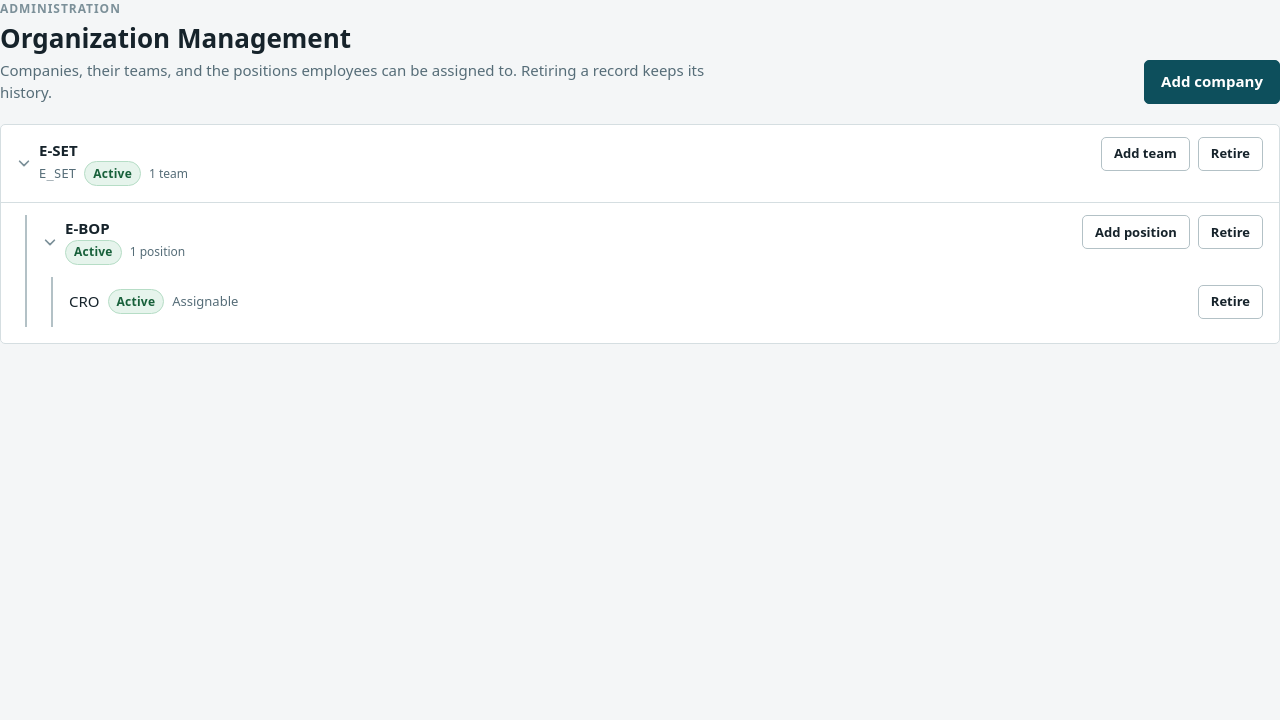
Test: creating a company › refetches the hierarchy after success and reports the SERVER-generated code
Click the button "Add company": (1212, 82) [1144,60,1279,104]
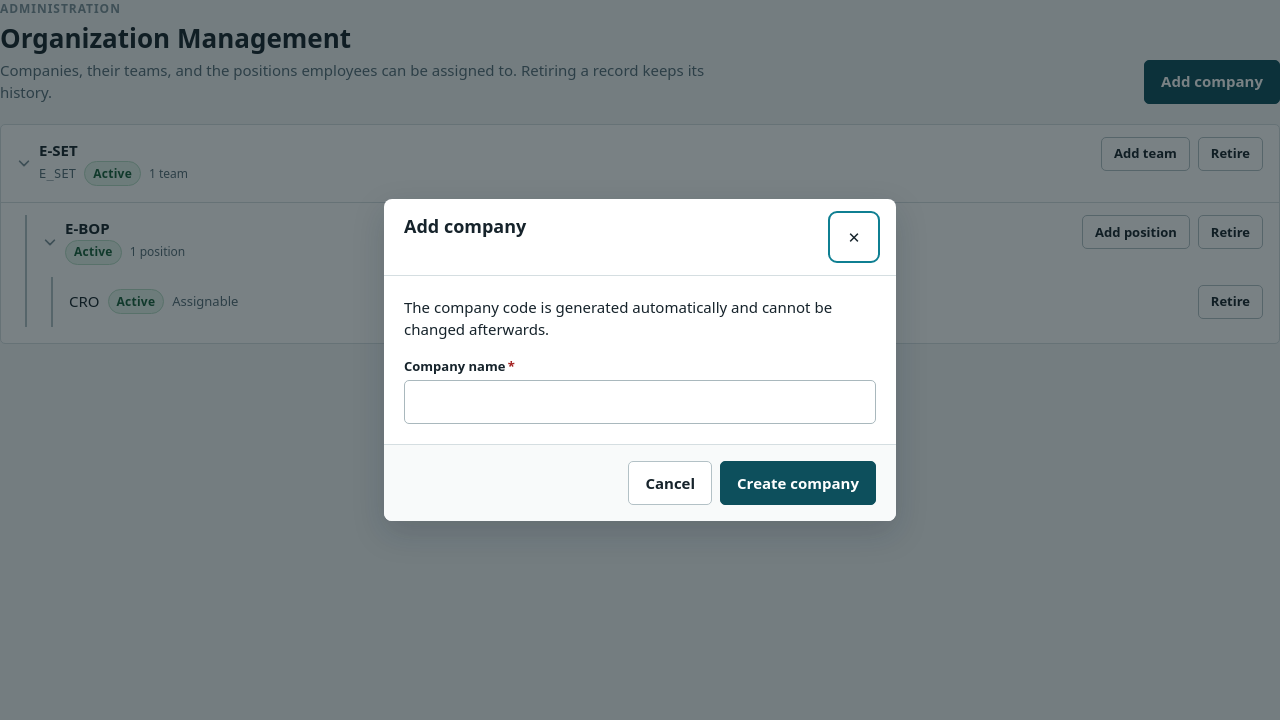
In the field labelled "Company name*": (640, 402) [404,380,876,424], type "North Wind"
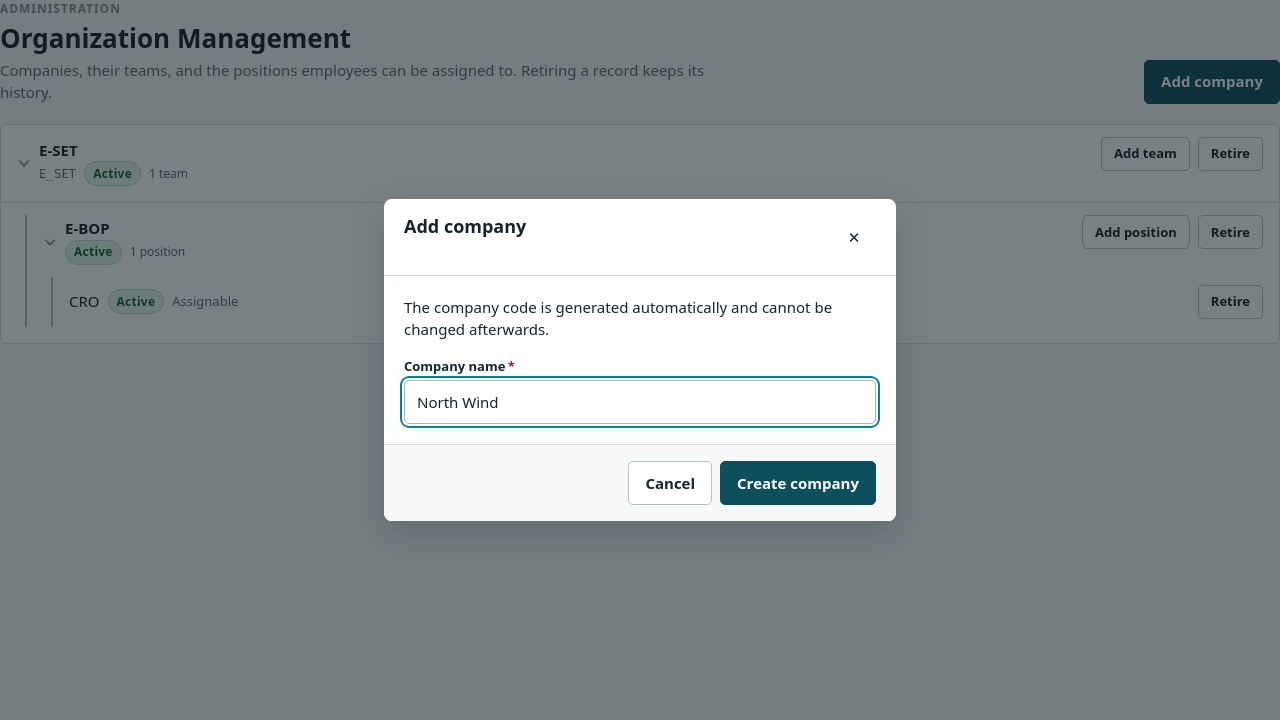
Click the button "Create company": (798, 483) [720,461,876,505]
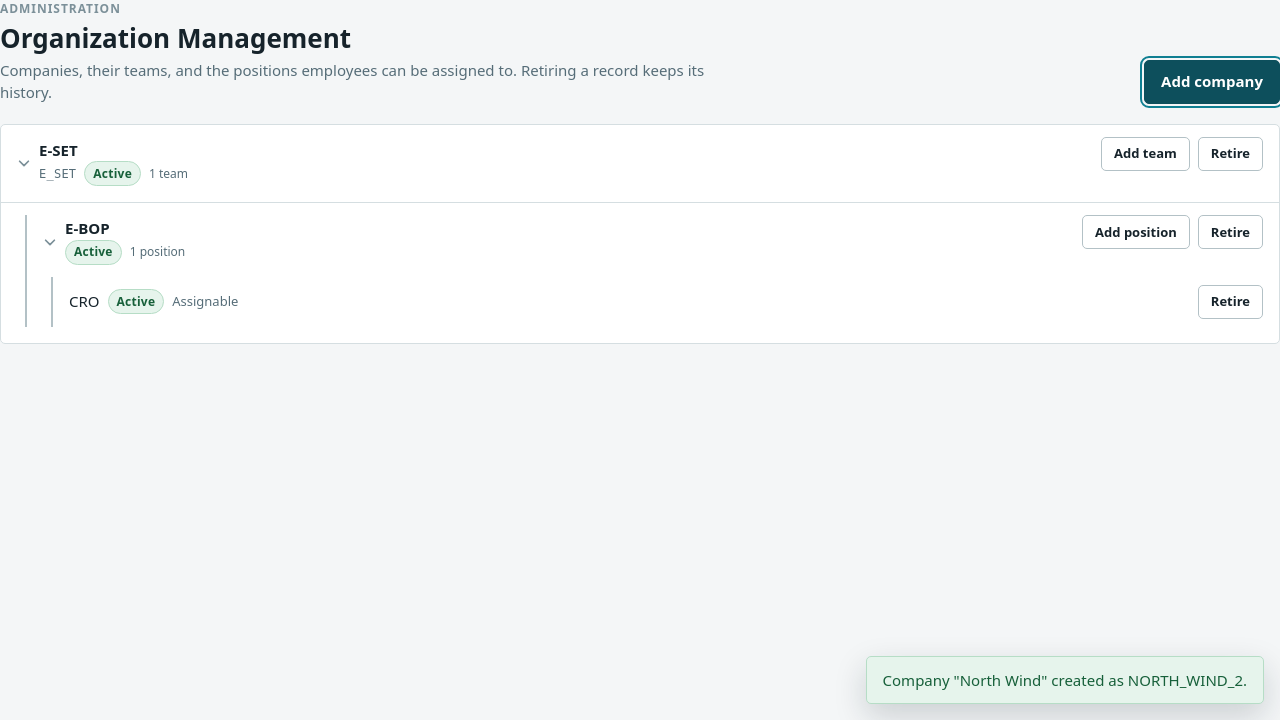
Now the text "Company \"North Wind\" created as NORTH_WIND_2." is shown, box [883,668,1247,691]
